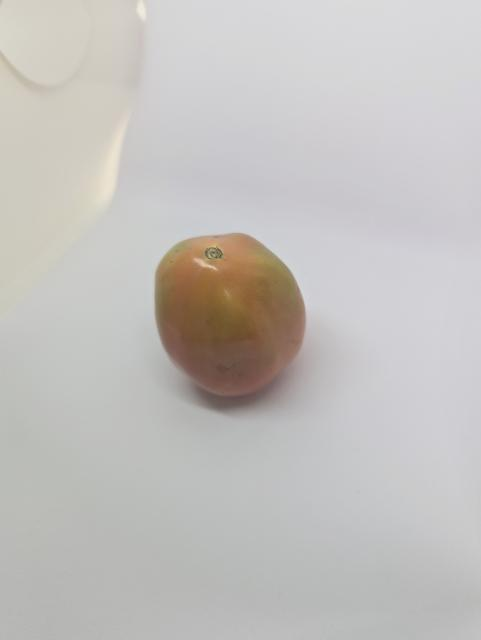turning: (146, 225, 317, 412)
